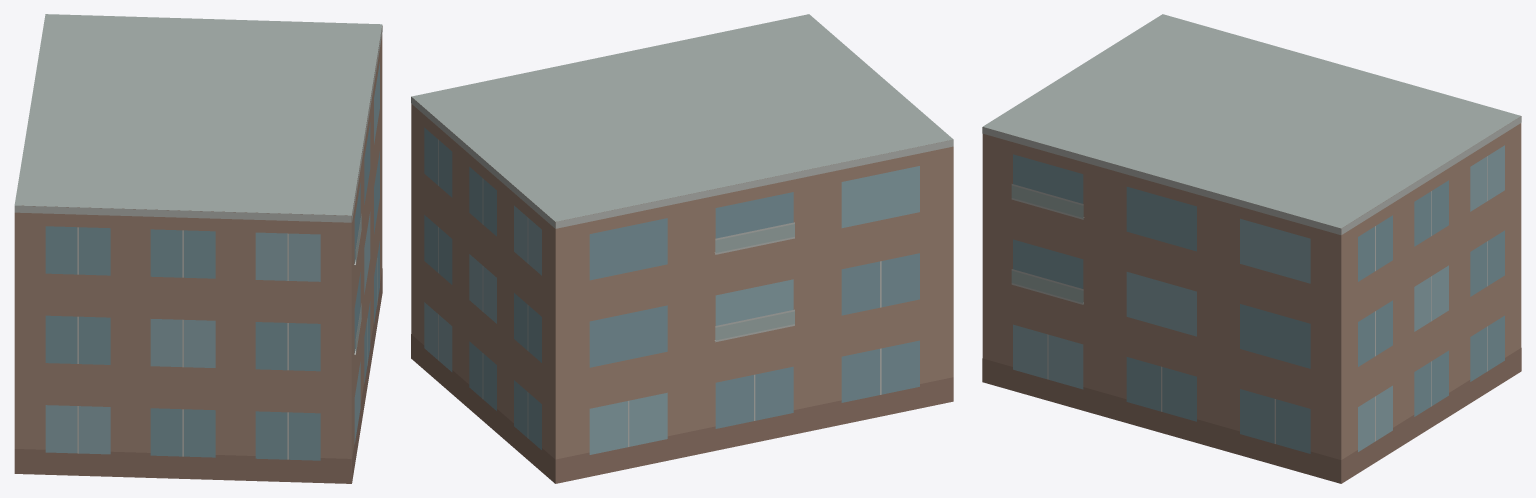
Rendered from survey-upis-32703969.glb.
The picture shows the model from 3 angles, left to right: view 1: azimuth 30°, elevation 25°; view 2: azimuth 150°, elevation 25°; view 3: azimuth 270°, elevation 25°; orthographic projection. The views are drawn at different scales.
Parts seen in each view (by area): view 1: survey-upis-32703969.tmp; view 2: survey-upis-32703969.tmp; view 3: survey-upis-32703969.tmp.
Part boxes in pixels (bbox=[...]): survey-upis-32703969.tmp: bbox=[14, 14, 382, 483]; survey-upis-32703969.tmp: bbox=[411, 14, 953, 483]; survey-upis-32703969.tmp: bbox=[982, 14, 1521, 483].
Size of the model in its own units: 16.49 by 9.15 by 17.51.
